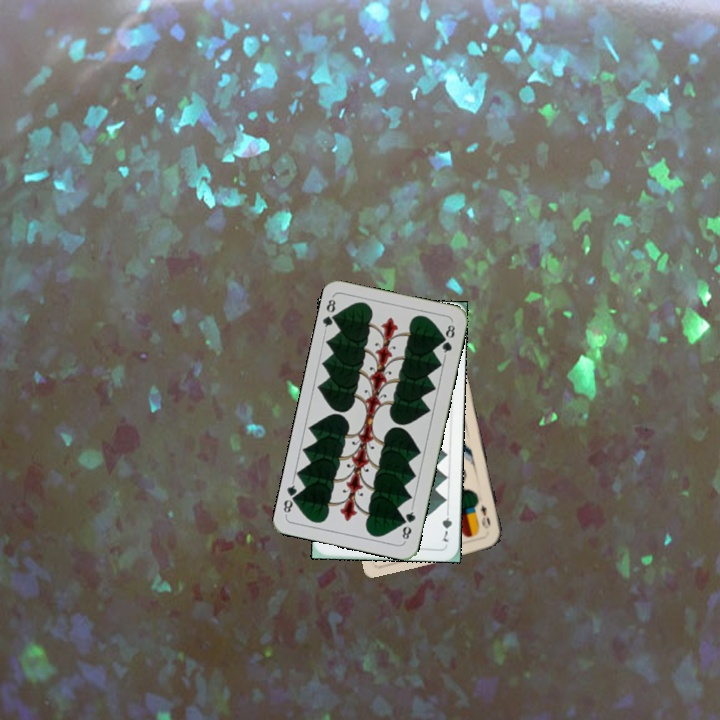EO: (476, 502, 493, 531)
G7: (438, 505, 454, 544)
G8: (319, 293, 342, 333), (398, 504, 418, 544)
